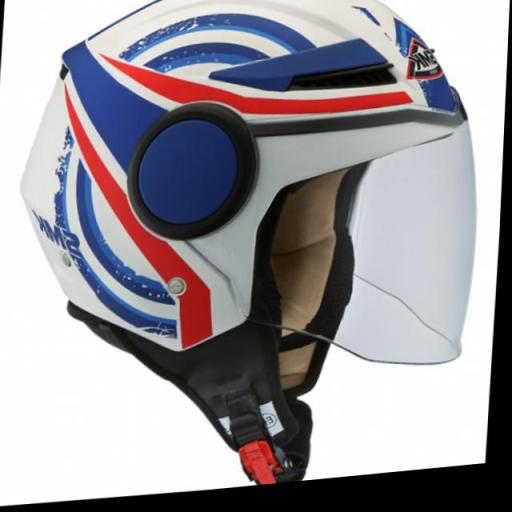Helmet: (0, 0, 505, 511)
